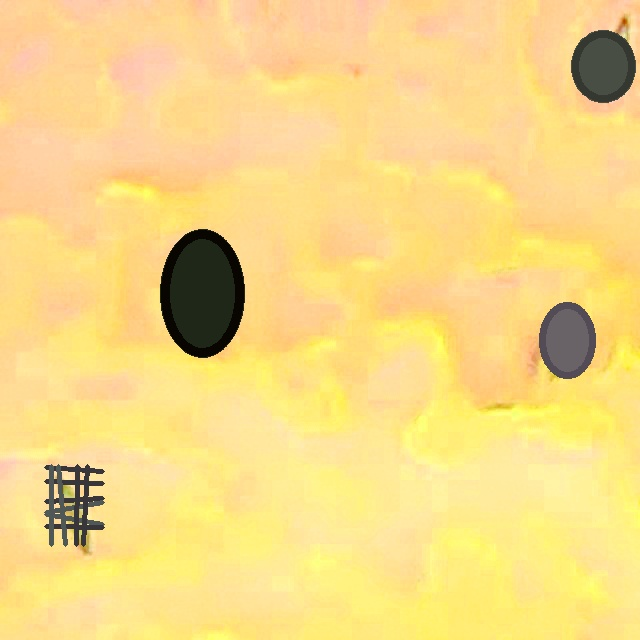open: (160, 229, 244, 356), (45, 465, 103, 546), (571, 30, 635, 103), (540, 302, 595, 378)
